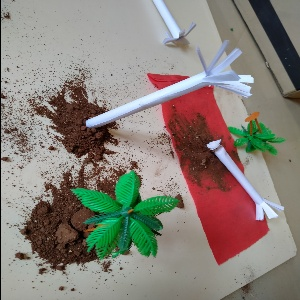plant: (72, 165, 172, 260), (227, 105, 290, 165)
weed: (69, 40, 256, 104), (199, 132, 281, 236), (151, 4, 206, 47)
